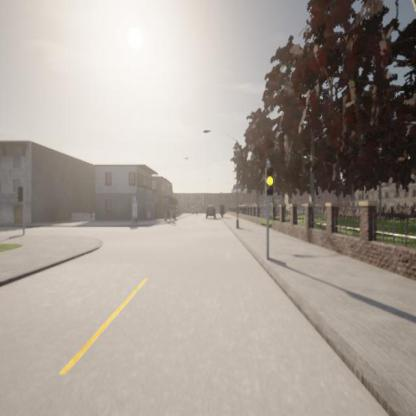traffic_light_orange: (266, 167, 274, 196)
